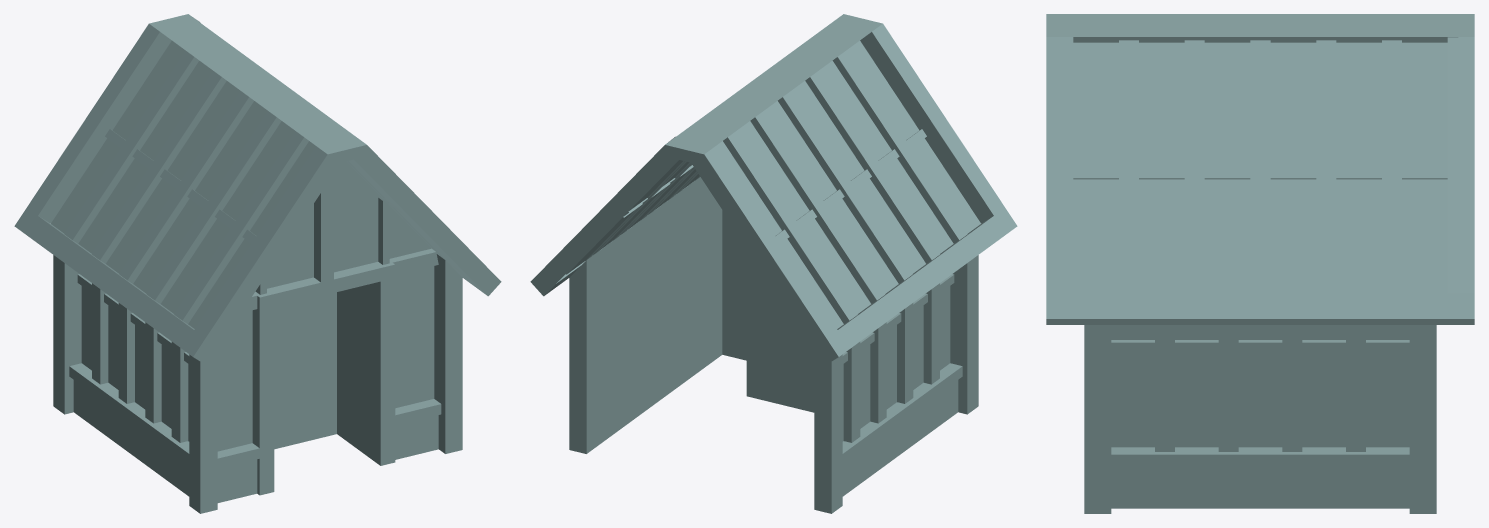
File: Greenhouse 1.fbx
The picture shows the model from 3 angles, left to right: view 1: azimuth 30°, elevation 25°; view 2: azimuth 150°, elevation 25°; view 3: azimuth 270°, elevation 25°; orthographic projection. The views are drawn at different scales.
Parts seen in each view (by area): view 1: greenhouse; view 2: greenhouse; view 3: greenhouse.
Part boxes in pixels (box(x1,y1,x2,y2)): greenhouse: box(14, 14, 501, 513); greenhouse: box(530, 14, 1017, 513); greenhouse: box(1046, 14, 1474, 513).
Size of the model in its own units: 6.08 by 6.48 by 6.1.
